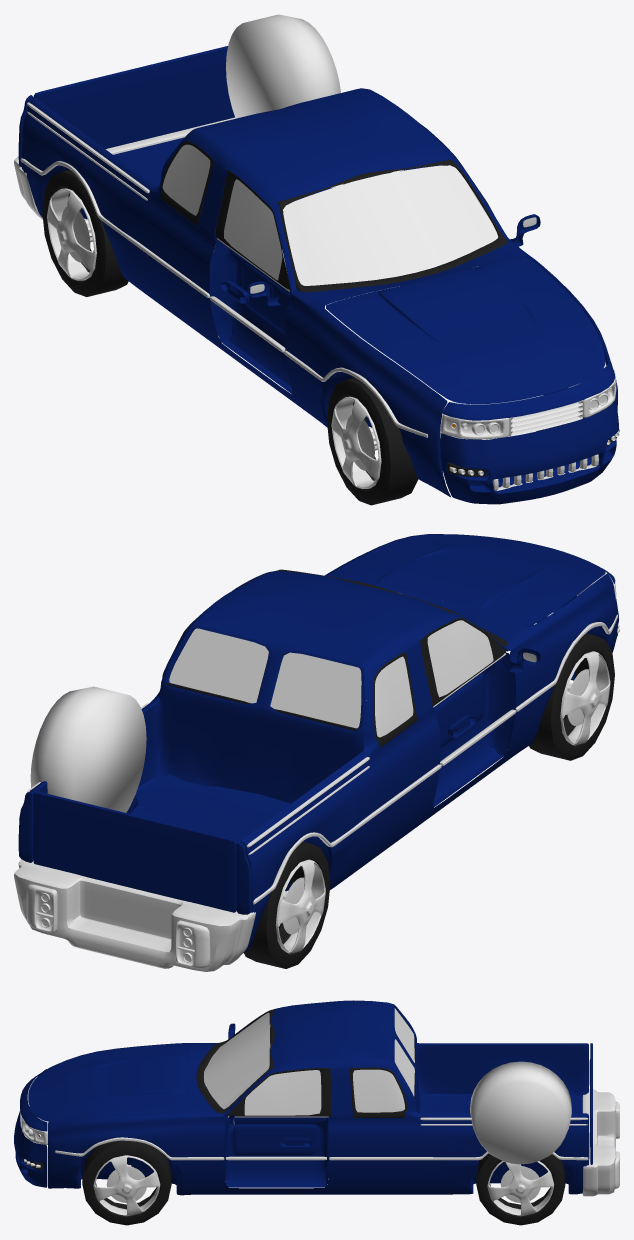
File: car245.fbx
The picture shows the model from 3 angles, top to bottom: view 1: azimuth 30°, elevation 25°; view 2: azimuth 150°, elevation 25°; view 3: azimuth 270°, elevation 25°; orthographic projection. The views are drawn at different scales.
Parts seen in each view (by area): view 1: Main_Body, frt, Cylinder, bmp, BrKt, whell, thing, whell.001, thing.001, light, misc; view 2: Main_Body, bmp, frt, Cylinder, whell, whell.001, thing, thing.001, BrKt, light; view 3: Main_Body, frt, Cylinder, bmp, whell, BrKt, thing, whell.001, thing.001, light.
Boxes of the visible parts, x1,y1,x2,y2 form: Main_Body: [18, 46, 618, 504]; frt: [162, 144, 498, 291]; Cylinder: [226, 14, 340, 118]; bmp: [14, 102, 617, 437]; BrKt: [160, 125, 507, 292]; whell: [326, 377, 543, 505]; thing: [331, 395, 543, 488]; whell.001: [42, 169, 282, 296]; thing.001: [47, 188, 96, 280]; light: [440, 373, 619, 476]; misc: [492, 400, 598, 490]; Main_Body: [18, 534, 618, 953]; bmp: [14, 614, 617, 971]; frt: [169, 620, 506, 737]; Cylinder: [30, 686, 146, 812]; whell: [529, 633, 614, 760]; whell.001: [244, 841, 330, 968]; thing: [560, 651, 610, 745]; thing.001: [275, 859, 325, 953]; BrKt: [165, 569, 507, 747]; light: [26, 571, 619, 968]; Main_Body: [14, 1000, 592, 1195]; frt: [204, 1008, 414, 1117]; Cylinder: [470, 1061, 571, 1164]; bmp: [55, 1089, 615, 1196]; whell: [82, 1140, 171, 1225]; BrKt: [196, 1008, 415, 1117]; thing: [93, 1155, 160, 1216]; whell.001: [476, 1153, 565, 1225]; thing.001: [487, 1161, 554, 1216]; light: [22, 1076, 619, 1188].
Bounding box in the file's own units: 768 × 587 × 2005.
